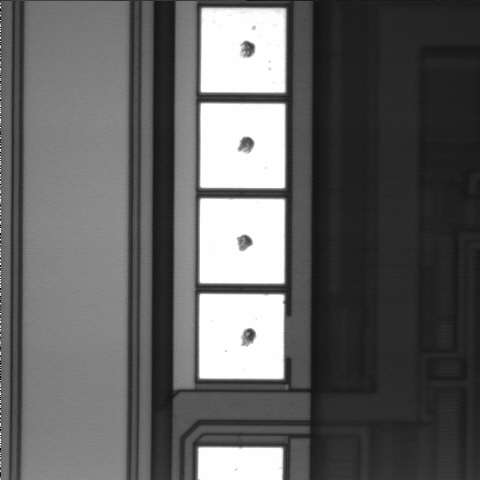pad: (201, 8, 286, 93), (200, 103, 285, 188), (200, 199, 285, 284), (199, 294, 284, 379)
